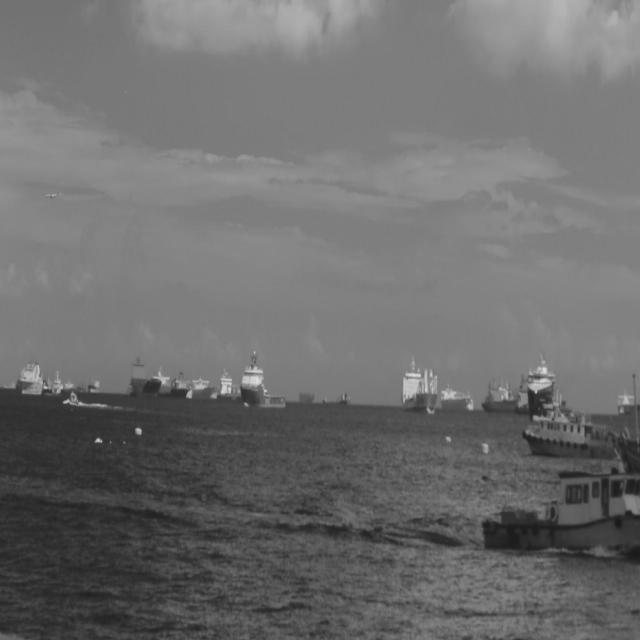buoy: (134, 426, 142, 436)
ship: (481, 460, 639, 555), (522, 385, 620, 459), (240, 345, 287, 408), (527, 348, 567, 420), (401, 353, 438, 414), (126, 354, 162, 398), (481, 371, 518, 412), (440, 380, 474, 411), (183, 372, 218, 400), (217, 363, 241, 401), (616, 430, 639, 469), (170, 362, 191, 397), (618, 386, 640, 416), (322, 392, 351, 408), (50, 368, 64, 396), (87, 376, 101, 393), (68, 389, 79, 406)
